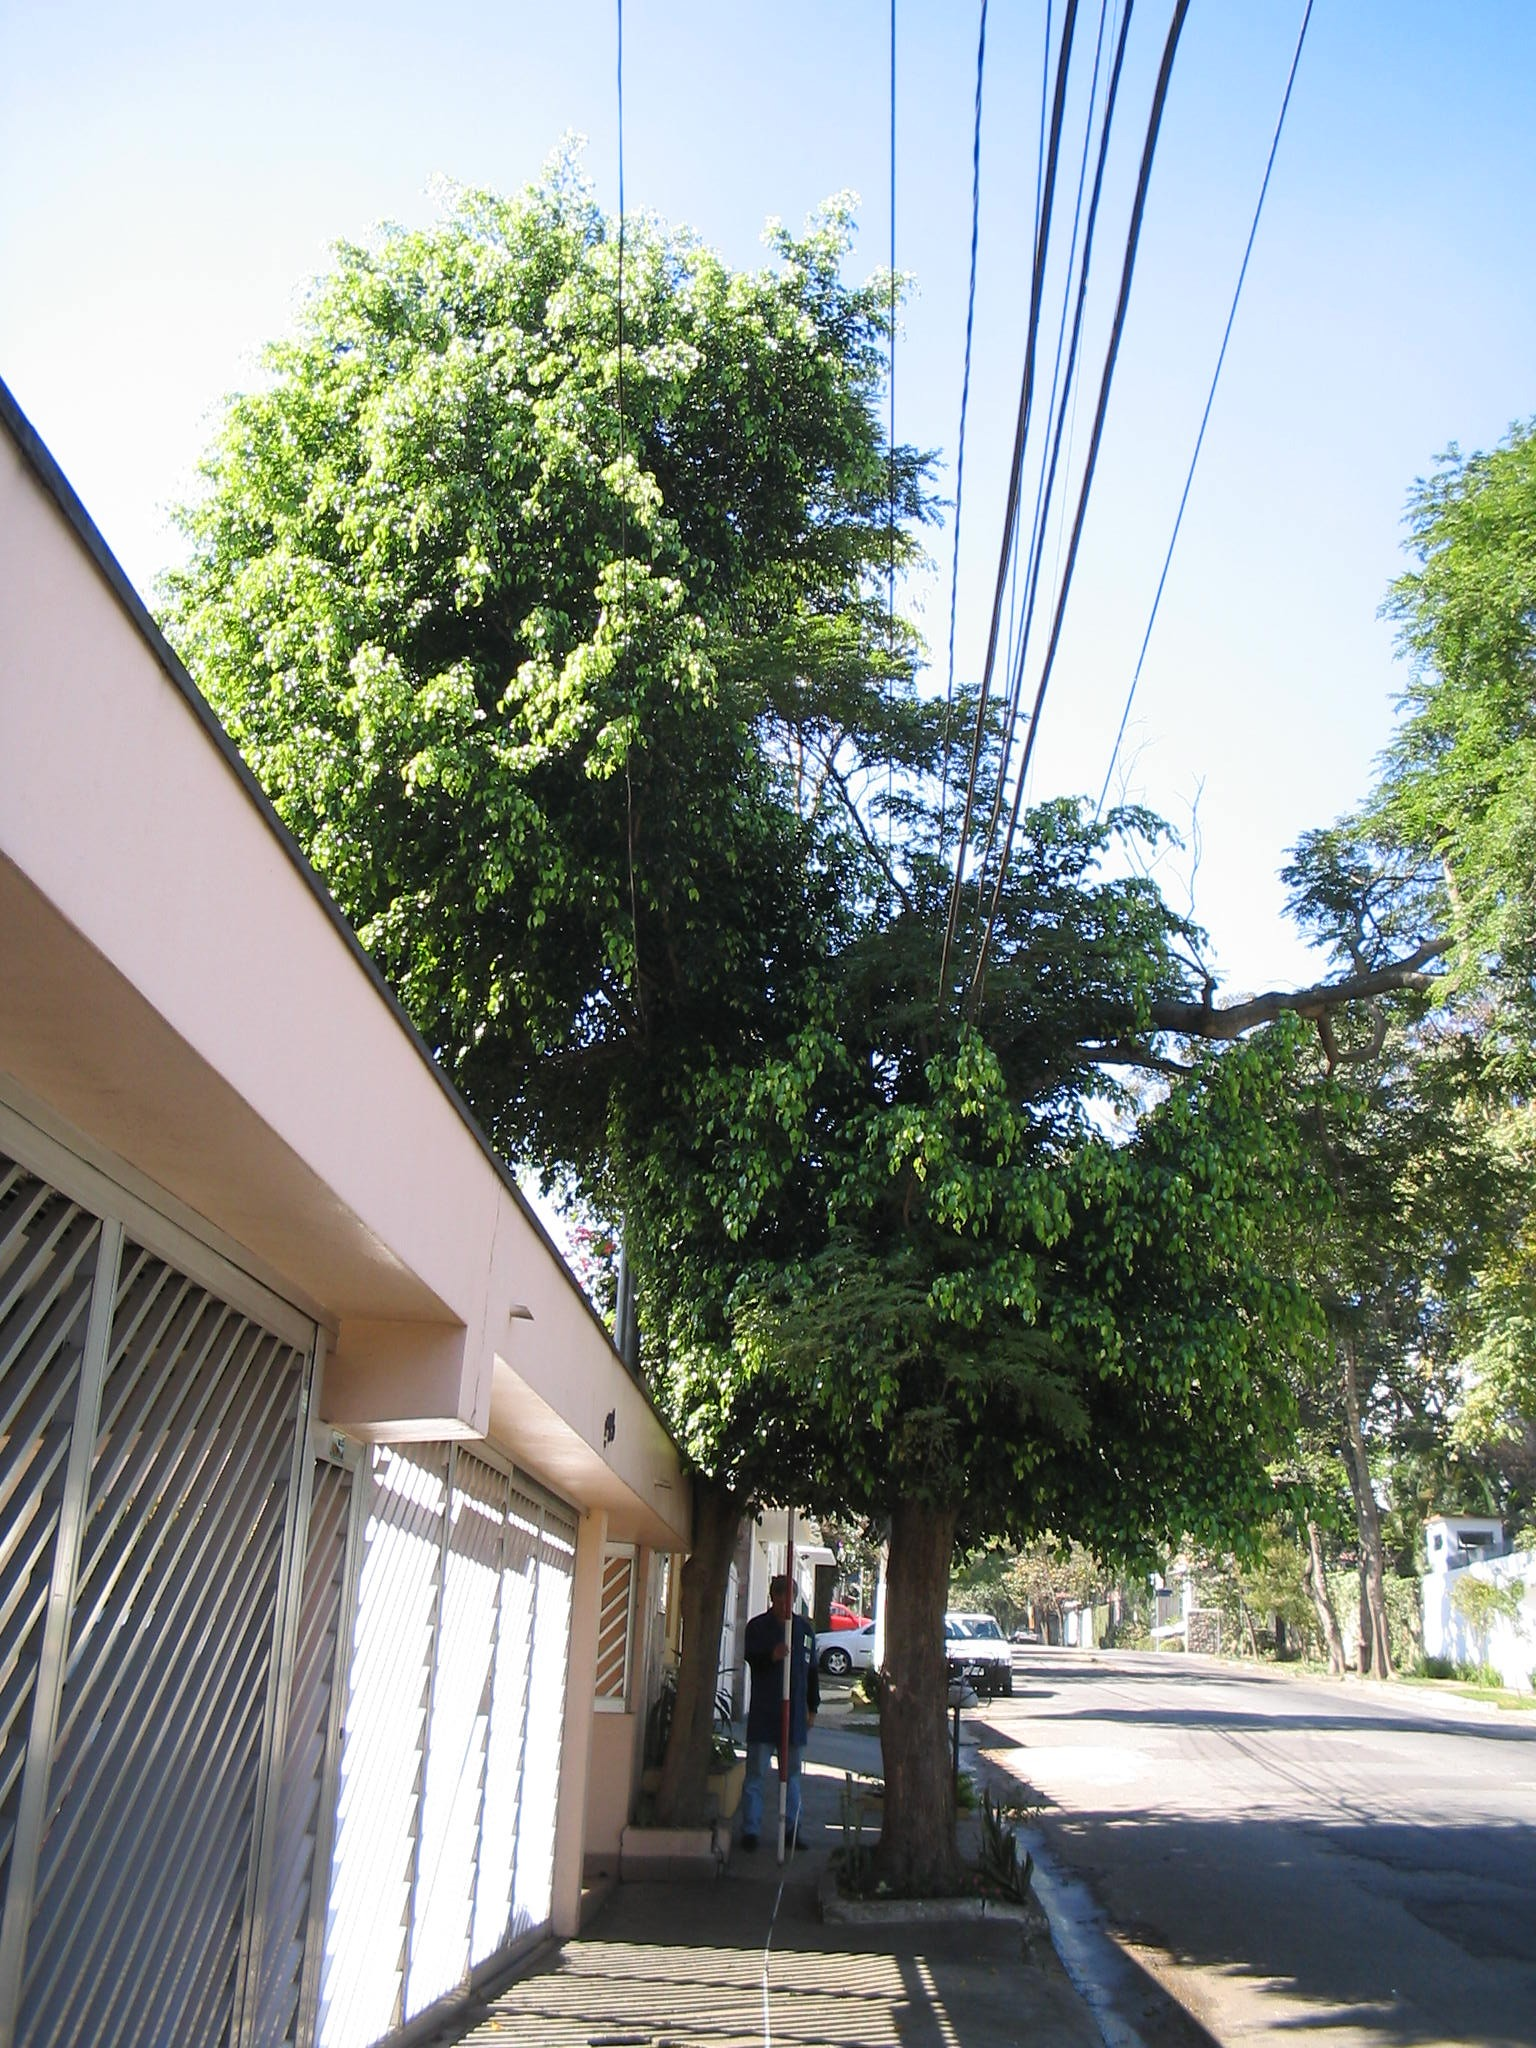crown: (628, 987, 1381, 1582)
stem: (836, 1529, 1004, 1890), (645, 1482, 741, 1829)
stick: (763, 1467, 810, 1867)
tree: (623, 976, 1381, 1892)
